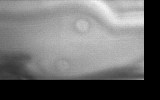cell: (51, 57, 72, 76), (73, 18, 90, 36)
